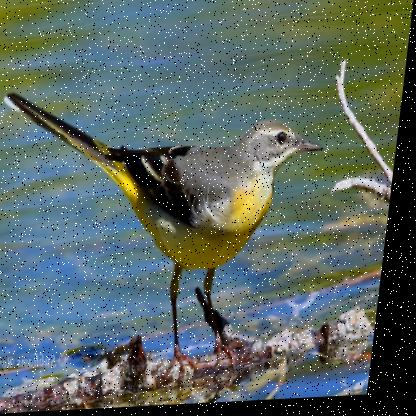Burung: (0, 76, 336, 376)
